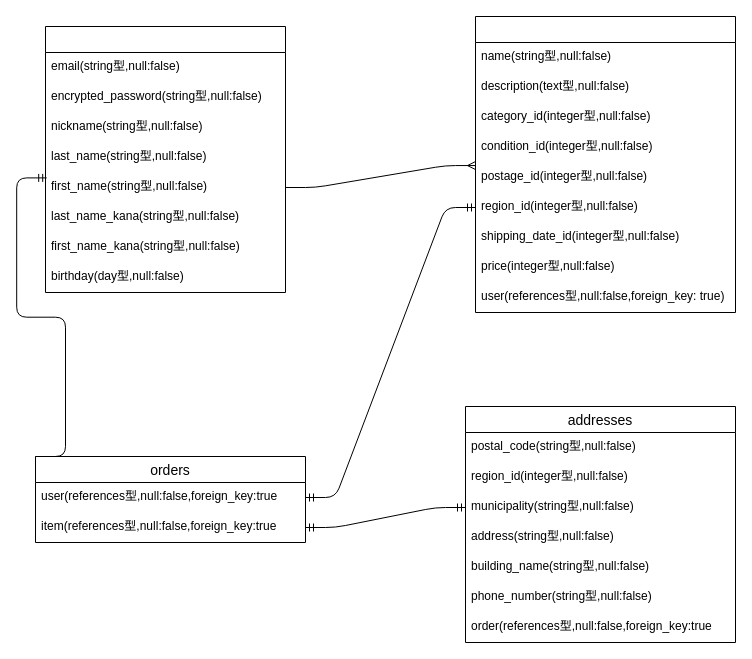
Some shapes in this 752 by 659 pixel diagram are drawn without their labels. Here are the shapes that lost their labels. From the top down, the box of each, then its label:
(44, 26, 286, 292): users
(474, 16, 736, 312): items
